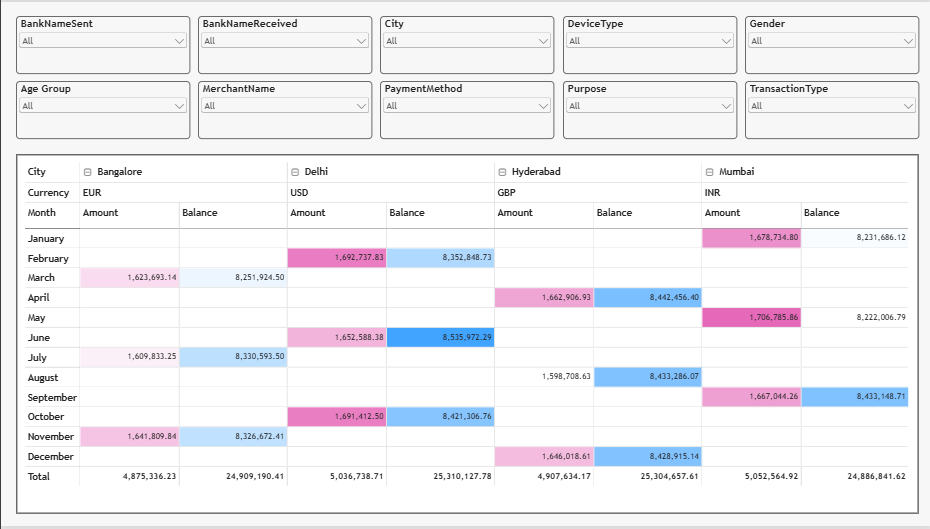

The dashboard page shown, as its layout file describes it:
{"tool":"powerbi","page":{"name":"Matrix","canvas":[1920,1080],"ordinal":1},"visuals":[{"type":"slicer","fields":{"Values":["UPI Transactions.BankNameReceived"]},"box":[406.4,28.1,360,120],"z":0},{"type":"slicer","fields":{"Values":["UPI Transactions.Gender"]},"box":[1535.7,28.1,360,120],"z":1000},{"type":"slicer","fields":{"Values":["UPI Transactions.DeviceType"]},"box":[1159.3,28.1,360,120],"z":2000},{"type":"slicer","fields":{"Values":["UPI Transactions.City"]},"box":[782.8,28.1,360,120],"z":3000},{"type":"slicer","fields":{"Values":["UPI Transactions.BankNameSent"]},"box":[30,29,360,120],"z":4000},{"type":"slicer","fields":{"Values":["UPI Transactions.MerchantName"]},"box":[406.5,162.5,360,120],"z":5000},{"type":"slicer","fields":{"Values":["UPI Transactions.TransactionType"]},"box":[1535.7,162.6,360,120],"z":6000},{"type":"slicer","fields":{"Values":["UPI Transactions.Purpose"]},"box":[1159.3,162.5,360,120],"z":7000},{"type":"slicer","fields":{"Values":["UPI Transactions.PaymentMethod"]},"box":[782.9,162.5,360,120],"z":8000},{"type":"slicer","fields":{"Values":["UPI Transactions.Age Group"]},"box":[30.1,162.6,360,120],"z":9000},{"type":"pivotTable","fields":{"Columns":["UPI Transactions.City","UPI Transactions.Currency"],"Rows":["UPI Transactions.TransactionDate.Variation.Date Hierarchy.Month"],"Values":["Sum(UPI Transactions.Amount)","Sum(UPI Transactions.RemainingBalance)"]},"box":[31,313.8,1864.3,743.2],"z":10000}]}

Visuals, with their boxes in screenshot pixels (x1, y1, x2, y2), scaled from the page's 1920x1080 canvas onto the 930x529 screenshot:
slicer - UPI Transactions.BankNameReceived: rect(197, 14, 371, 73)
slicer - UPI Transactions.Gender: rect(744, 14, 918, 73)
slicer - UPI Transactions.DeviceType: rect(562, 14, 736, 73)
slicer - UPI Transactions.City: rect(379, 14, 554, 73)
slicer - UPI Transactions.BankNameSent: rect(15, 14, 189, 73)
slicer - UPI Transactions.MerchantName: rect(197, 80, 371, 138)
slicer - UPI Transactions.TransactionType: rect(744, 80, 918, 138)
slicer - UPI Transactions.Purpose: rect(562, 80, 736, 138)
slicer - UPI Transactions.PaymentMethod: rect(379, 80, 554, 138)
slicer - UPI Transactions.Age Group: rect(15, 80, 189, 138)
pivotTable - UPI Transactions.City x UPI Transactions.Currency: rect(15, 154, 918, 518)
